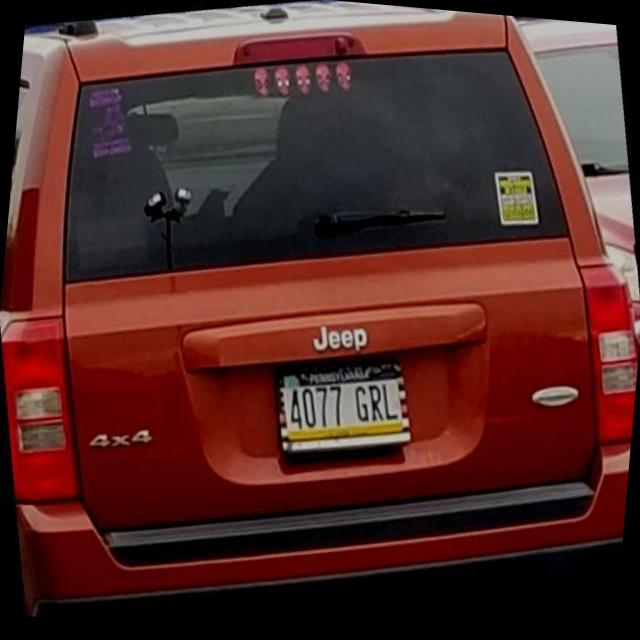LicensePlate: (272, 357, 410, 454)
